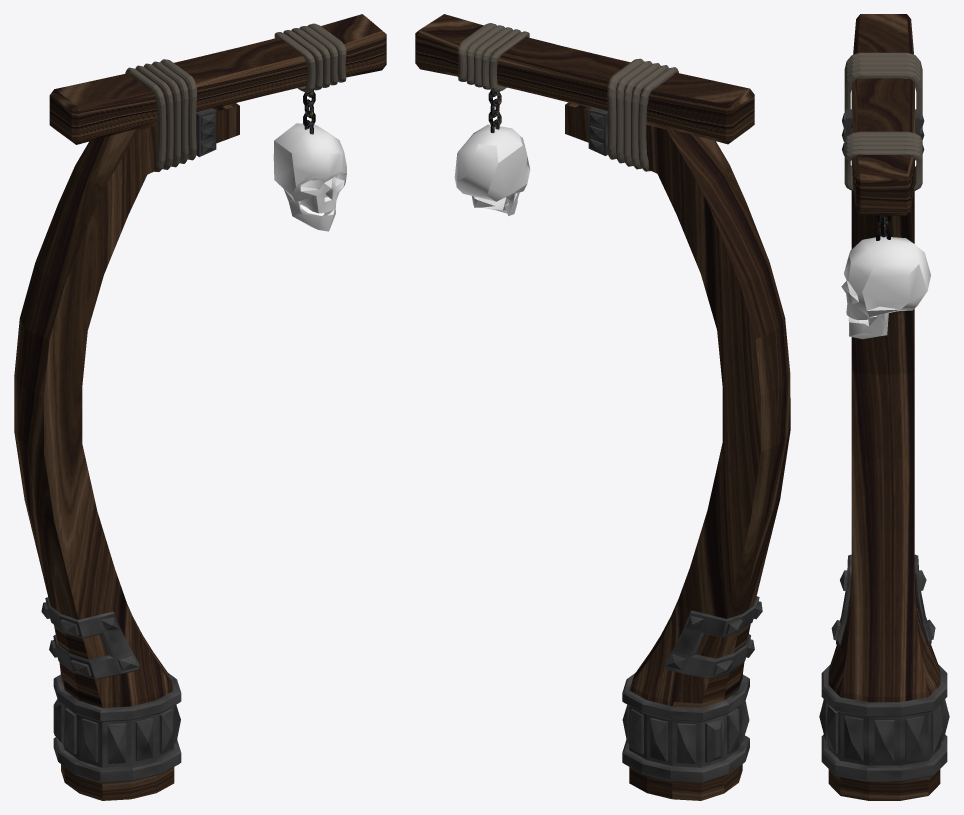
The model's file is Wood_Lamp01.fbx.
3 renders of one model, left to right at view 1: azimuth 30°, elevation 25°; view 2: azimuth 150°, elevation 25°; view 3: azimuth 270°, elevation 25°, orthographic. The views are drawn at different scales.
Parts seen in each view (by area): view 1: Cube.002, Cube.005, Skull_01.002, Cube.006, Cube.007; view 2: Cube.002, Cube.005, Skull_01.002, Cube.006, Cube.007; view 3: Cube.002, Cube.005, Skull_01.002, Cube.006, Cube.007, Torus.
Part boxes in pixels (left/top/right/bottom): Cube.002: left=14, top=103, right=239, bottom=800; Cube.005: left=49, top=14, right=386, bottom=144; Skull_01.002: left=273, top=123, right=346, bottom=231; Cube.006: left=125, top=59, right=196, bottom=171; Cube.007: left=274, top=23, right=346, bottom=92; Cube.002: left=565, top=102, right=790, bottom=800; Cube.005: left=415, top=14, right=754, bottom=144; Skull_01.002: left=454, top=124, right=530, bottom=215; Cube.006: left=607, top=58, right=678, bottom=171; Cube.007: left=458, top=23, right=529, bottom=91; Cube.002: left=819, top=88, right=949, bottom=800; Cube.005: left=852, top=14, right=914, bottom=215; Skull_01.002: left=841, top=236, right=930, bottom=339; Cube.006: left=844, top=52, right=922, bottom=128; Cube.007: left=844, top=131, right=922, bottom=191; Torus: left=876, top=215, right=891, bottom=240.
Bounding box in the file's own units: 147 × 276 × 44.14.
